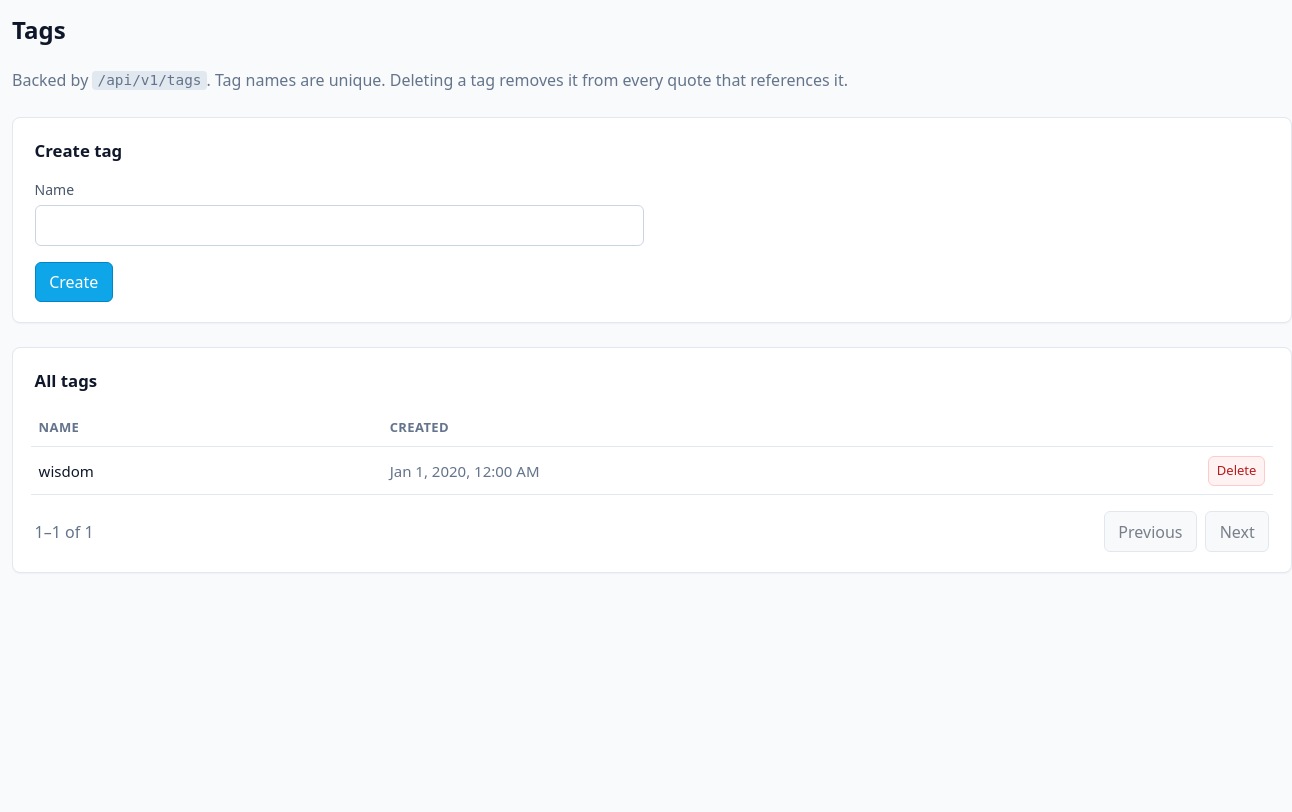
TagsPage › create form › validates that name is required
Expected: the text "wisdom" is shown, left=31, top=447, right=382, bottom=495
Click the button "Create": (74, 282) left=35, top=262, right=113, bottom=302
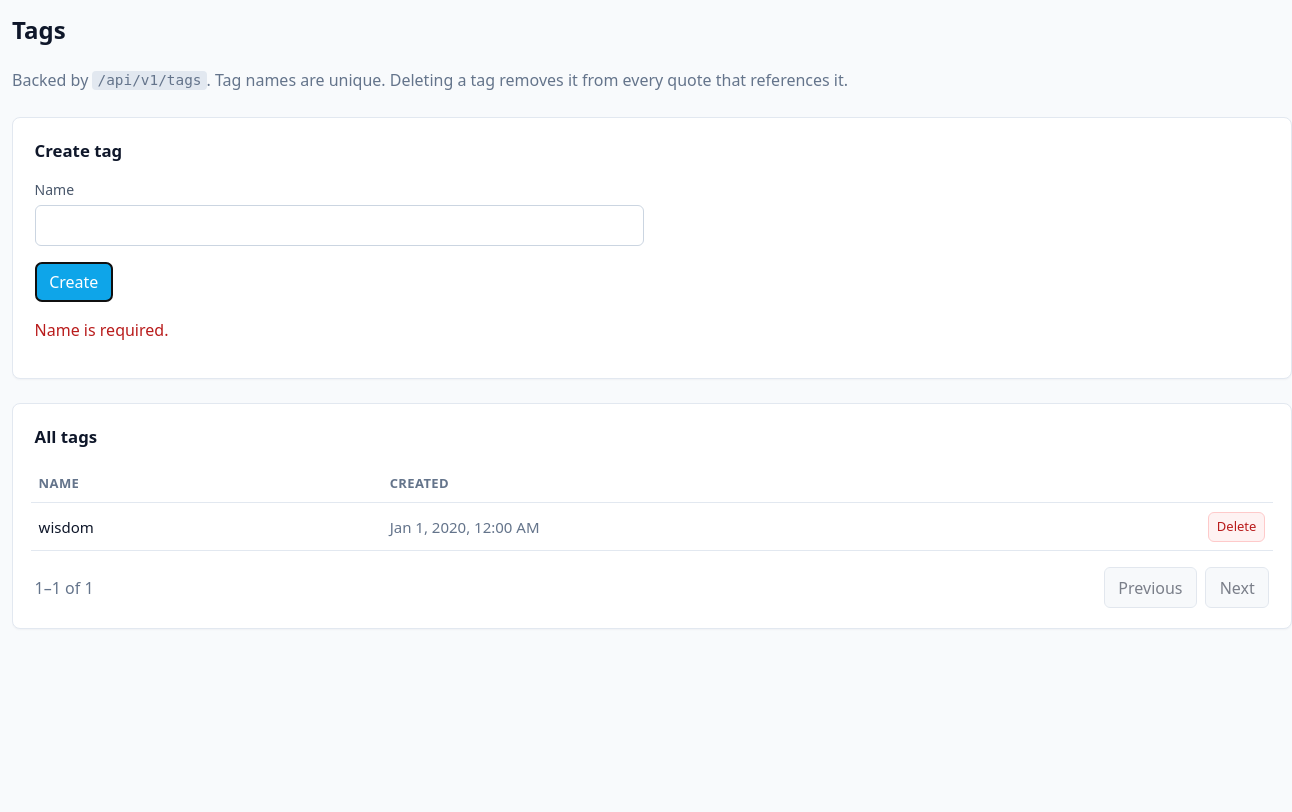
Now the text "Name is required." is shown, box left=35, top=319, right=168, bottom=341
